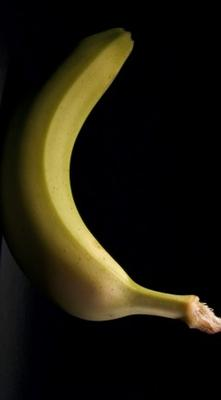banana: (0, 0, 221, 400)
